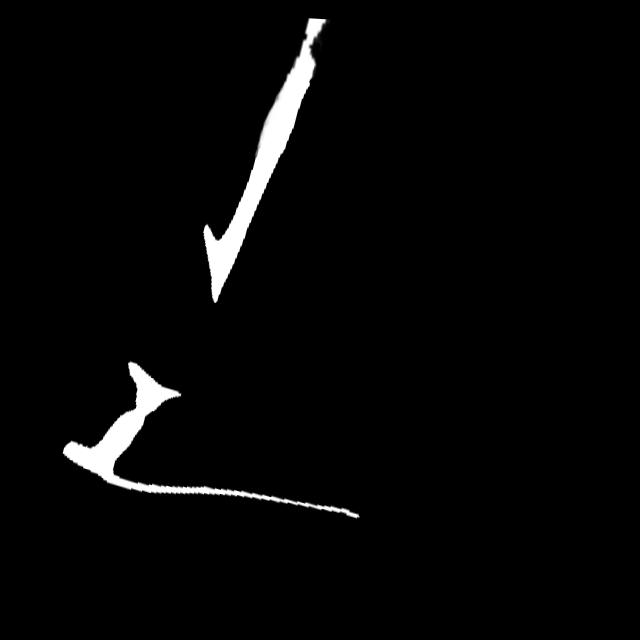sl: (280, 13, 336, 84)
